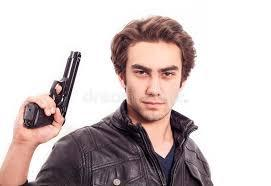criminal: (0, 13, 215, 186)
weapon: (20, 47, 86, 131)
